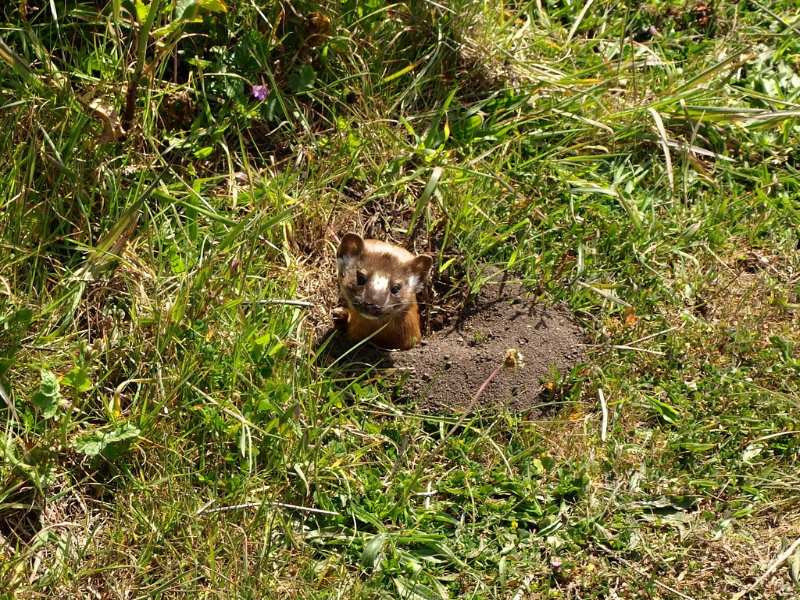minkish: (329, 229, 444, 352)
